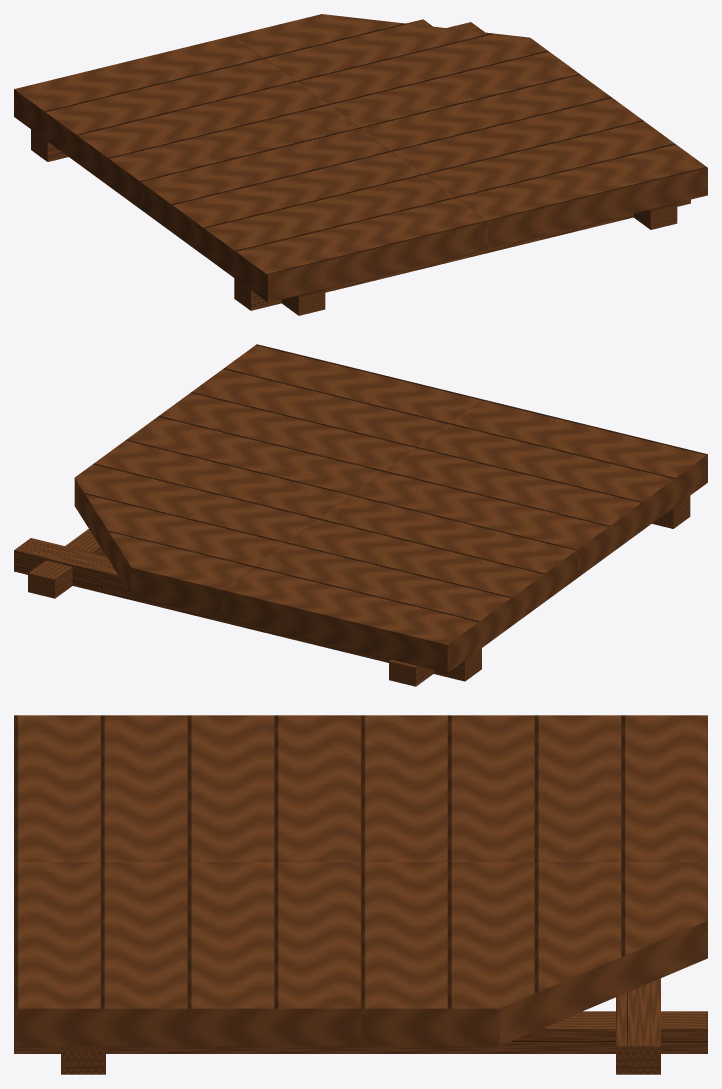
Rendered from modular-survival-base-builder-floor-corner-chamfer-653bae22__24149.glb.
3 views of the same model, one above another, from view 1: azimuth 30°, elevation 25°; view 2: azimuth 150°, elevation 25°; view 3: azimuth 270°, elevation 25° (orthographic). The views are drawn at different scales.
Visible parts, largest first — view 1: floor-corner-chamfer; view 2: floor-corner-chamfer; view 3: floor-corner-chamfer.
Part boxes in pixels (left/top/right/bottom): floor-corner-chamfer: left=14, top=14, right=707, bottom=315; floor-corner-chamfer: left=14, top=344, right=707, bottom=686; floor-corner-chamfer: left=14, top=715, right=707, bottom=1074.
Bounding box in the file's own units: 2 × 0.21 × 2.
Materials: 1 (1 with a texture image).
